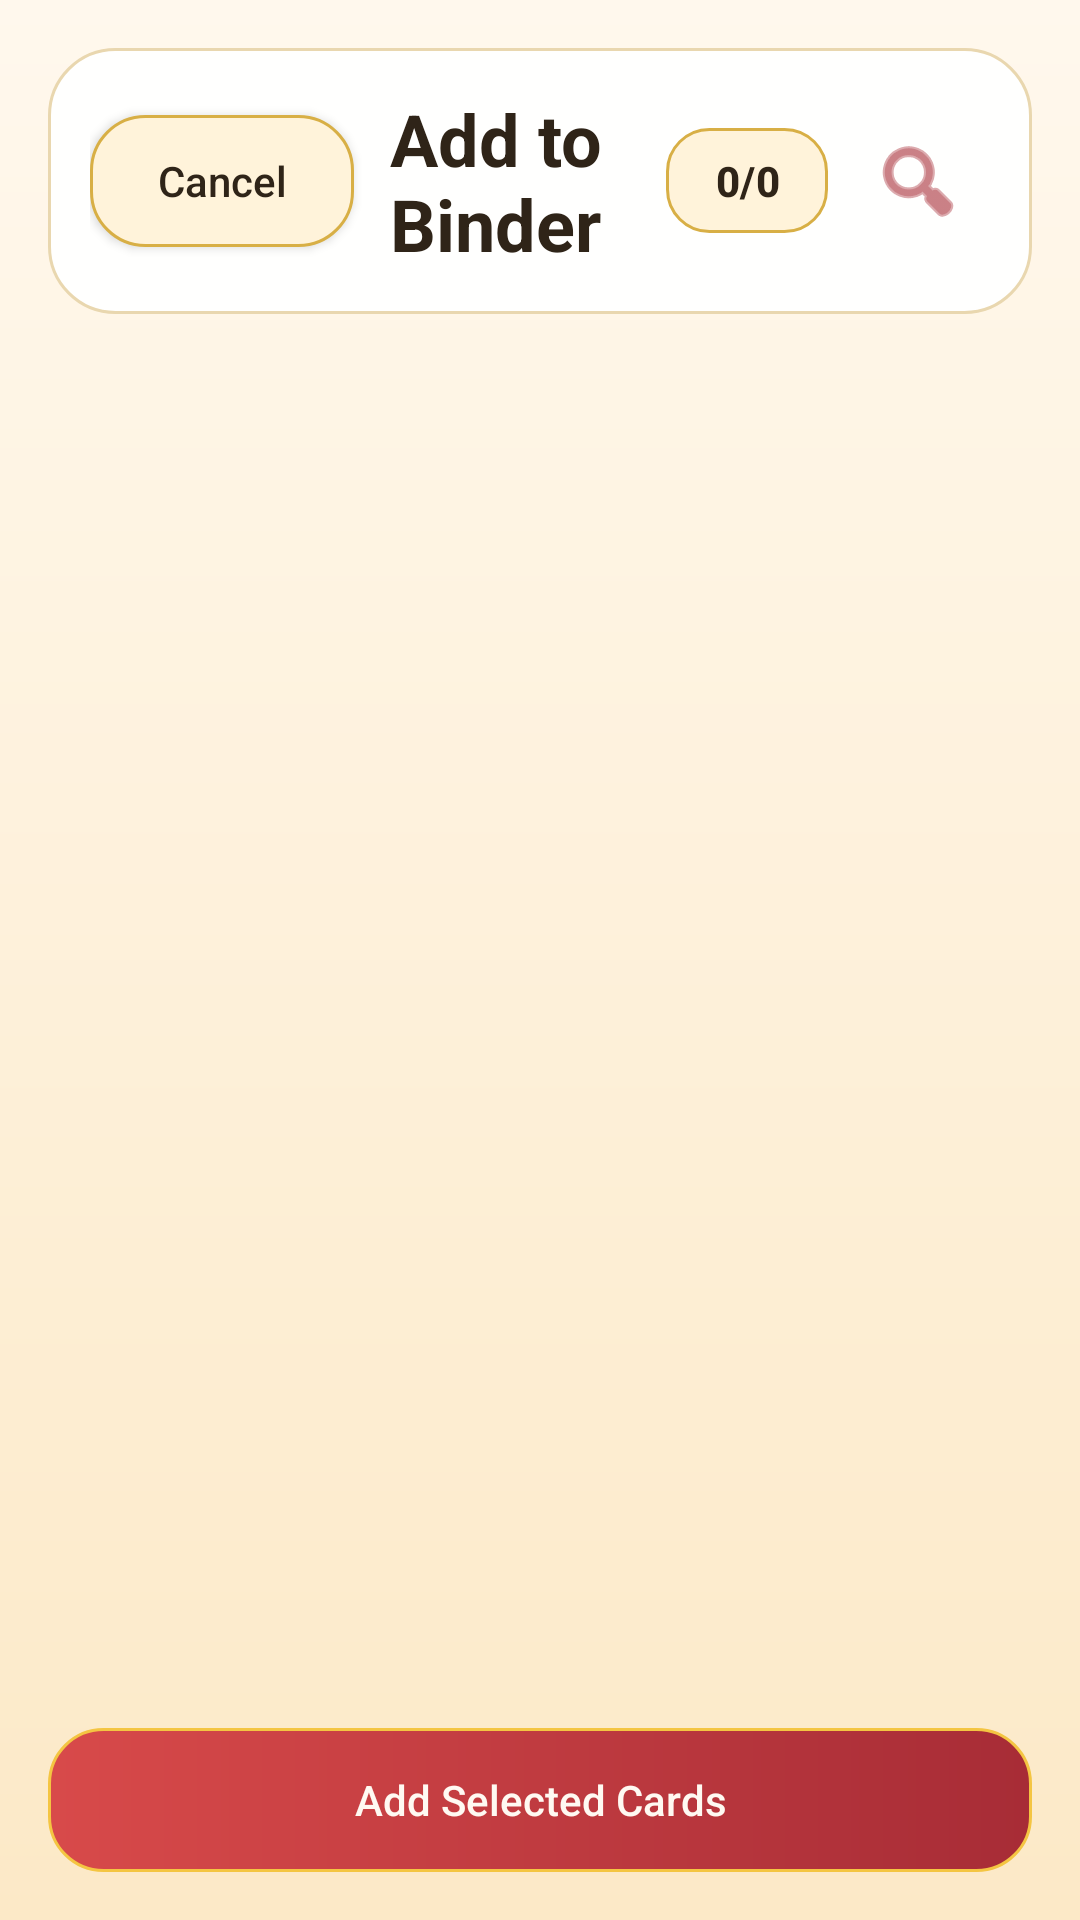

Icons on this 1080 × 1920 Android screen, each with the point to tap as point (x, y):
Show search and filters: point (918, 181)
